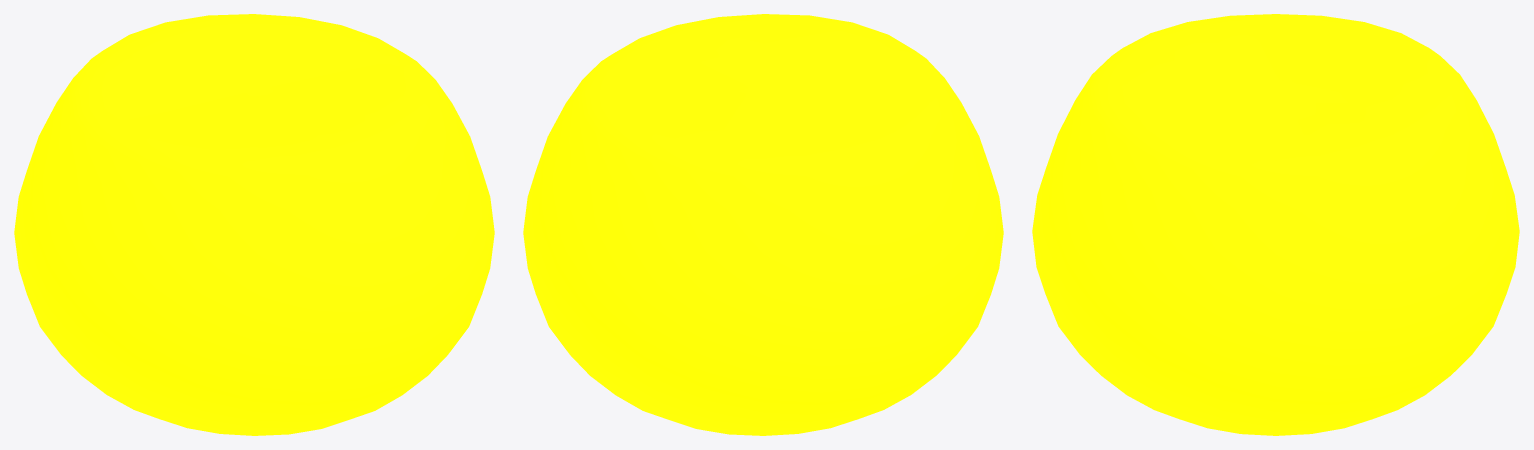
Rendered from liquid.fbx.
3 views of the same model, side by side, from view 1: azimuth 30°, elevation 25°; view 2: azimuth 150°, elevation 25°; view 3: azimuth 270°, elevation 25° (orthographic).
Parts seen in each view (by area): view 1: Potion.001; view 2: Potion.001; view 3: Potion.001.
Boxes of the visible parts, x1,y1,x2,y2 form: Potion.001: (14, 14, 494, 435); Potion.001: (523, 14, 1003, 435); Potion.001: (1032, 14, 1519, 435).
Bounding box in the file's own units: 45.12 × 33.01 × 45.39.
